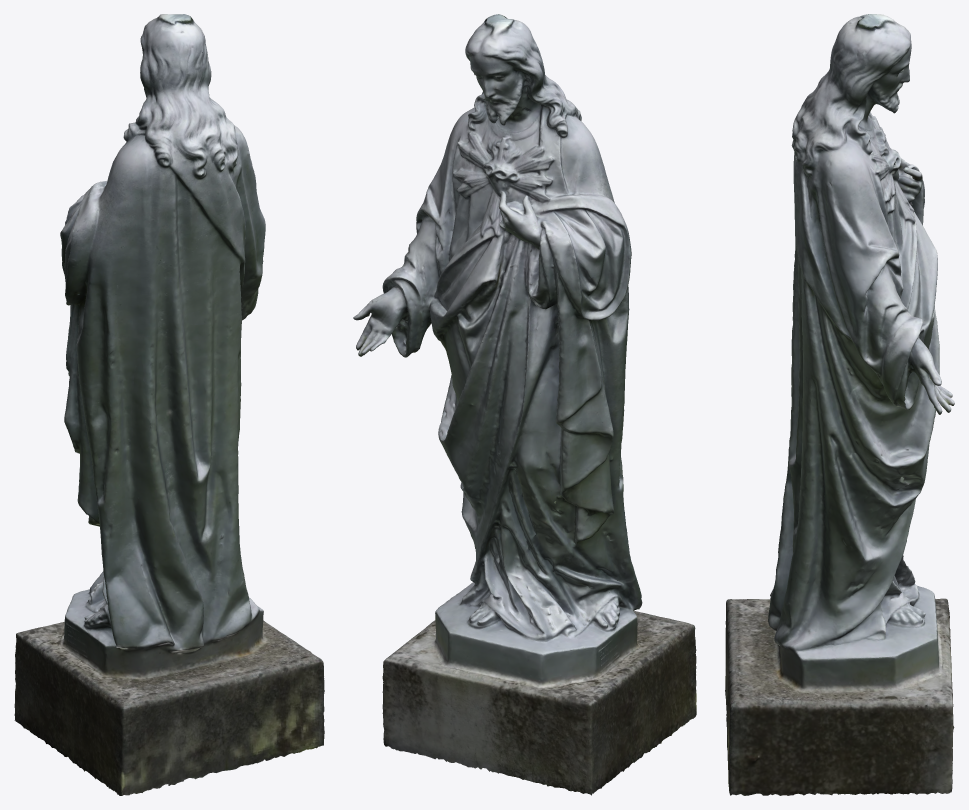
The model's file is sf-jesus-christ-statue-375d62.glb.
3 views of the same model, side by side, from view 1: azimuth 30°, elevation 25°; view 2: azimuth 150°, elevation 25°; view 3: azimuth 270°, elevation 25° (orthographic). The views are drawn at different scales.
Visible parts, largest first — view 1: Object_2; view 2: Object_2; view 3: Object_2.
Part boxes in pixels (<box>): Object_2: <box>14,14,324,795</box>; Object_2: <box>353,14,696,795</box>; Object_2: <box>725,14,954,795</box>.
Bounding box in the file's own units: 0.5823 × 1.65 × 0.4644.
Materials: 1 (1 with a texture image).
